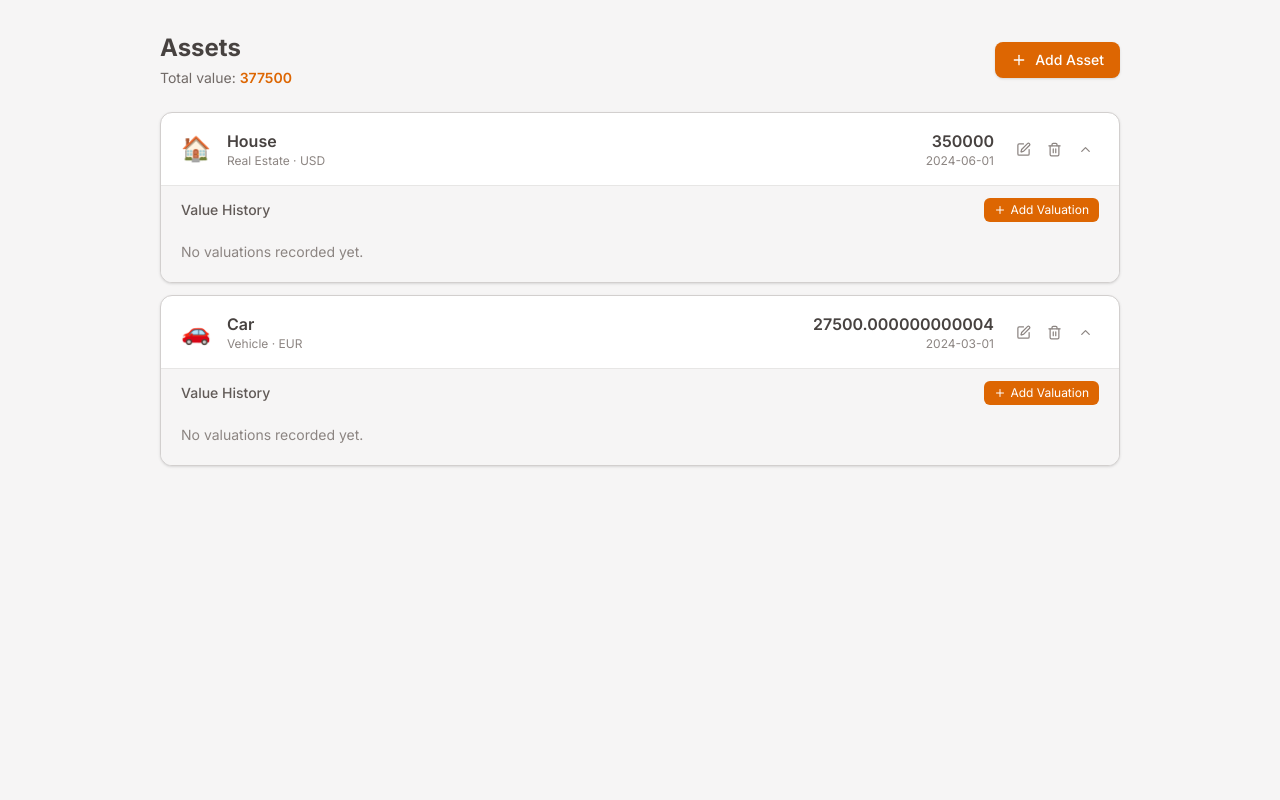
it: AssetTracker › opens add asset modal when clicking add button
Expected: the heading "House" is shown, [227,131,277,151]
Click the button "Add Asset" at [1058, 60], box [995,42,1120,78]
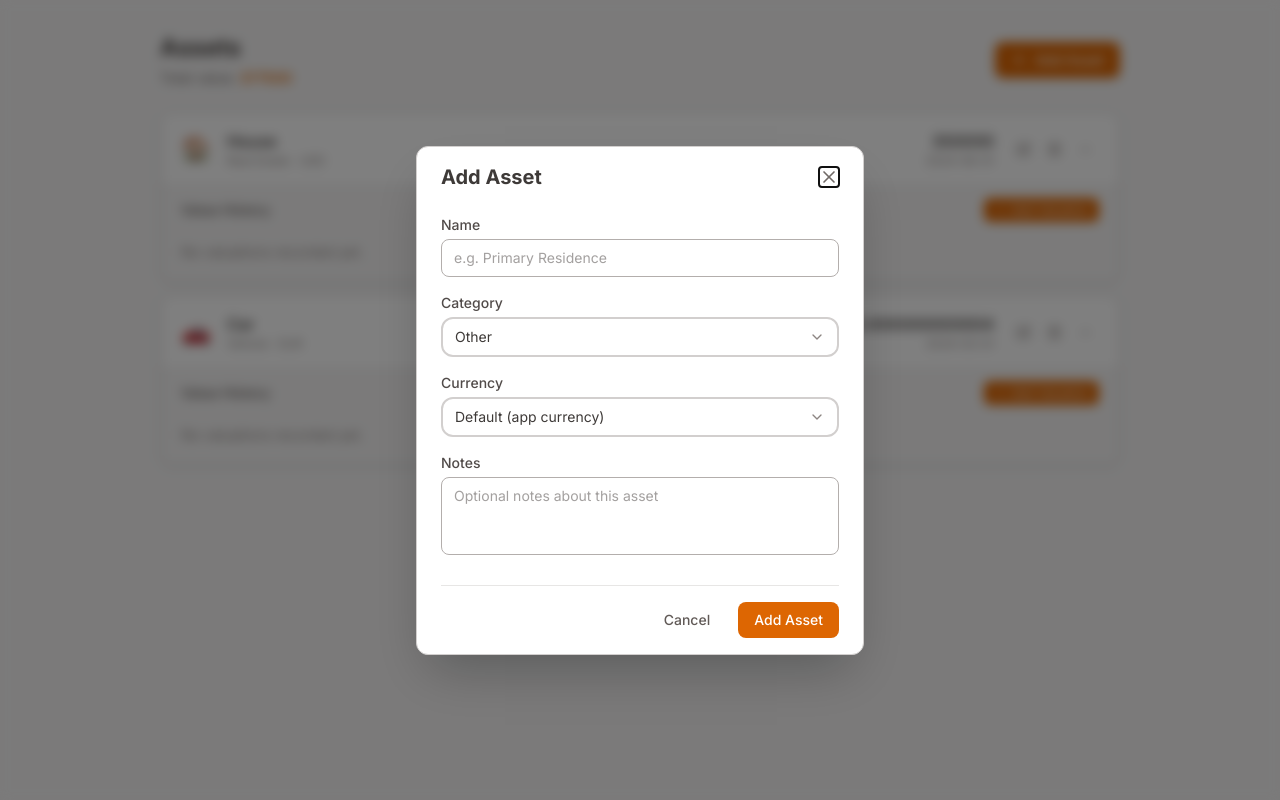
Expected: the text "Name" is shown, [441,216,480,232]
